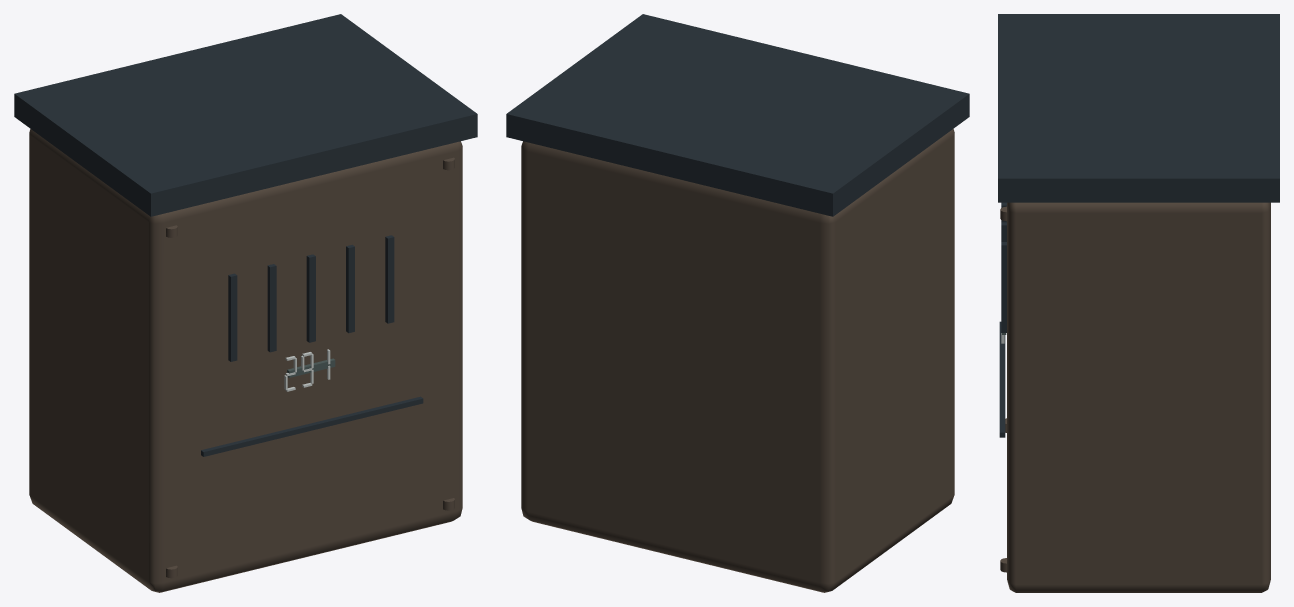
File: electrical-cabinet-3.glb
3 renders of one model, left to right at view 1: azimuth 30°, elevation 25°; view 2: azimuth 150°, elevation 25°; view 3: azimuth 270°, elevation 25°, orthographic. The views are drawn at different scales.
Visible parts, largest first — view 1: electrical-cabinet/2/KR-230-3; view 2: electrical-cabinet/2/KR-230-3; view 3: electrical-cabinet/2/KR-230-3.
Part boxes in pixels (x1,y1,x2,y2): electrical-cabinet/2/KR-230-3: (14, 14, 477, 592); electrical-cabinet/2/KR-230-3: (506, 14, 969, 592); electrical-cabinet/2/KR-230-3: (998, 14, 1279, 592).
Bounding box in the file's own units: 1.77 × 2.12 × 1.28.
